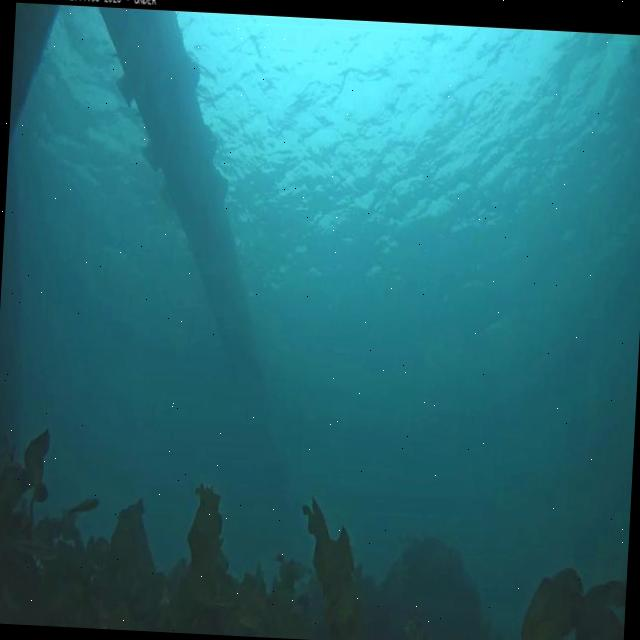fish: (10, 536, 60, 561), (64, 498, 100, 516)
